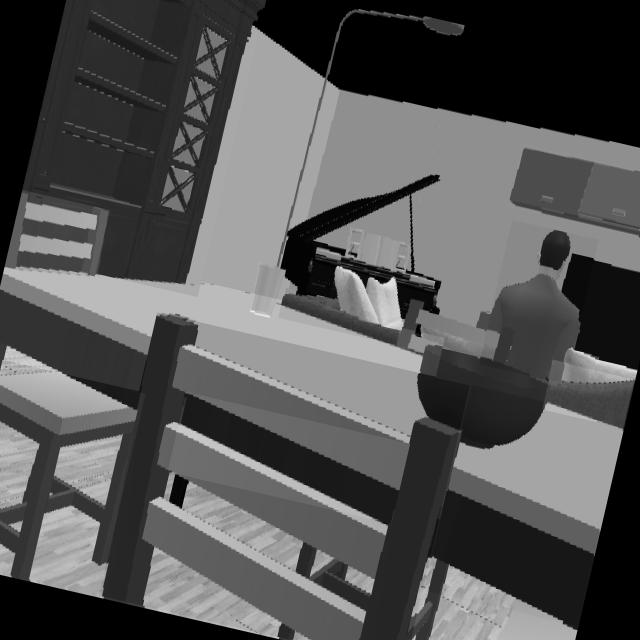bookshelf: (22, 0, 264, 279)
cabinet: (510, 151, 640, 237)
chair: (105, 315, 458, 640), (0, 375, 138, 579), (4, 193, 107, 275)
person: (487, 231, 579, 379)
pillow: (335, 267, 378, 321), (366, 278, 403, 330)
sofa: (282, 296, 396, 344), (548, 381, 634, 428)
table: (0, 269, 427, 436), (432, 404, 622, 625), (184, 396, 398, 523)
